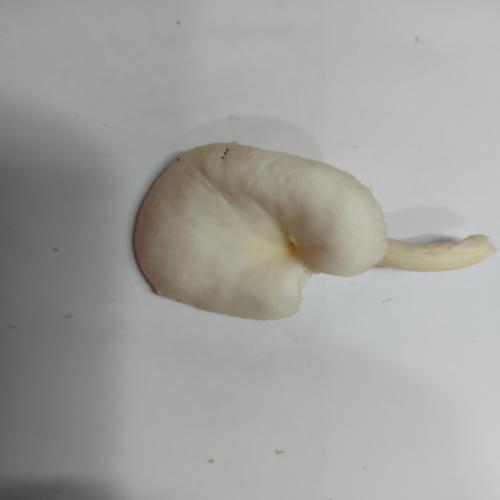Oyster Mushroom: (131, 140, 496, 321)
